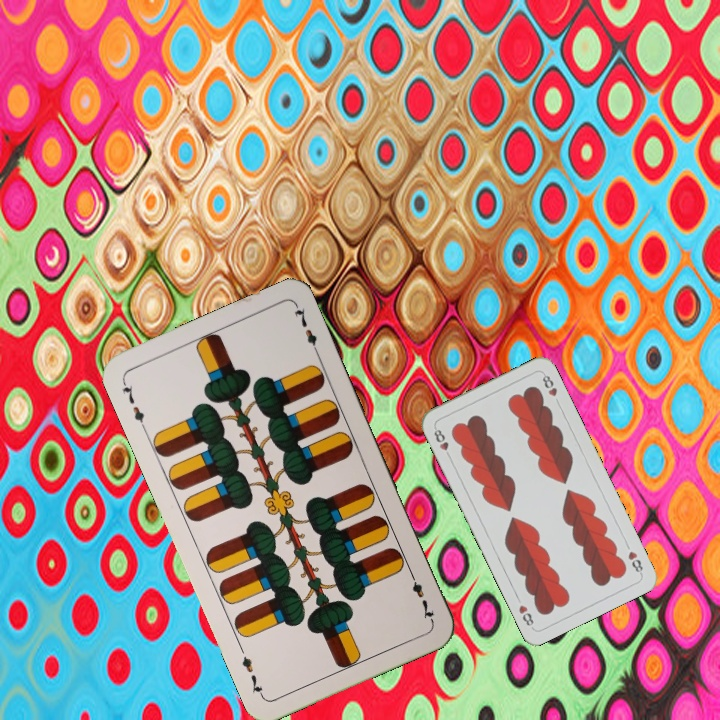E7: (405, 568, 437, 624), (118, 377, 149, 433)
H8: (430, 423, 454, 461), (624, 547, 645, 577)
